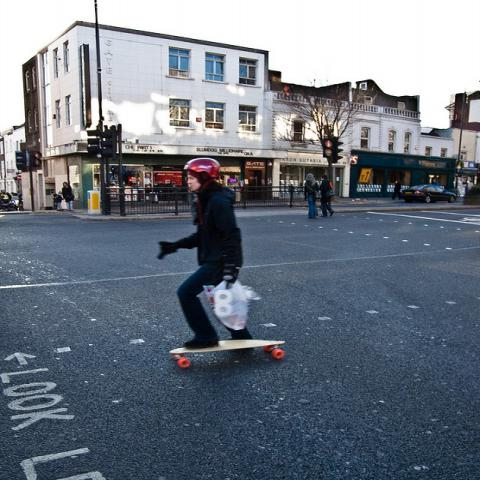car: (401, 184, 457, 204), (7, 192, 19, 200)
